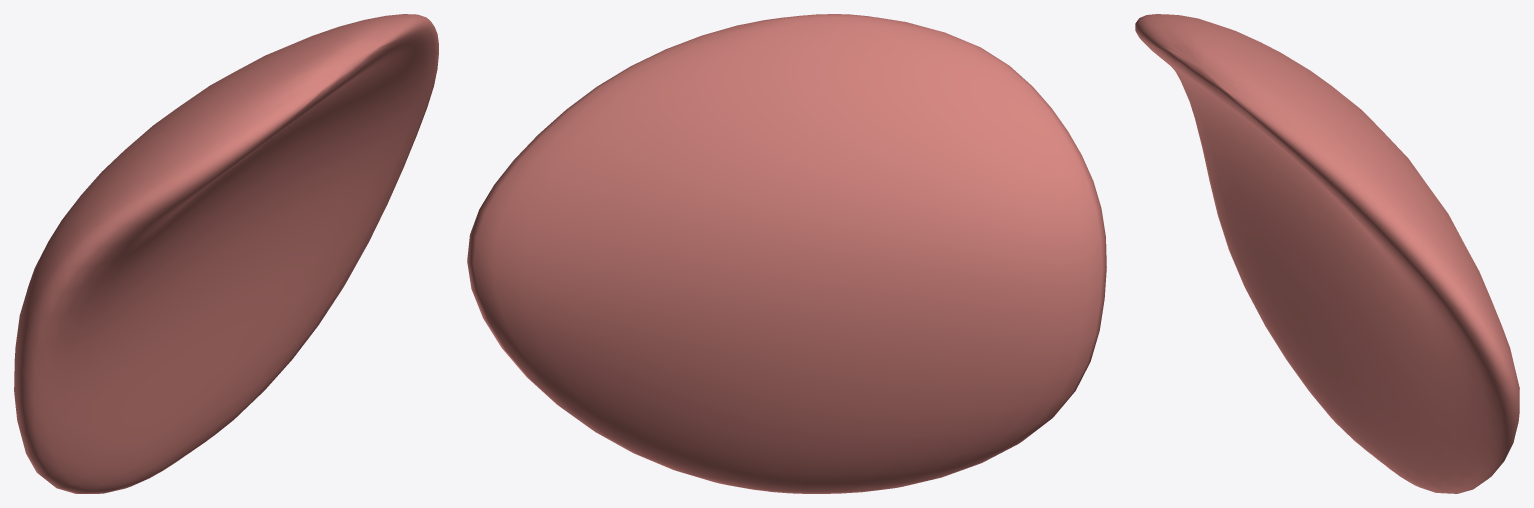
The picture shows the model from 3 angles, left to right: view 1: azimuth 30°, elevation 25°; view 2: azimuth 150°, elevation 25°; view 3: azimuth 270°, elevation 25°; orthographic projection. The views are drawn at different scales.
Visible parts, largest first — view 1: ZA_454f95a224165646; view 2: ZA_454f95a224165646; view 3: ZA_454f95a224165646.
Part boxes in pixels (x1,y1,x2,y2): ZA_454f95a224165646: [14, 14, 438, 493]; ZA_454f95a224165646: [467, 14, 1106, 493]; ZA_454f95a224165646: [1135, 14, 1519, 493].
Bounding box in the file's own units: 0.0229 × 0.0177 × 0.0143.
